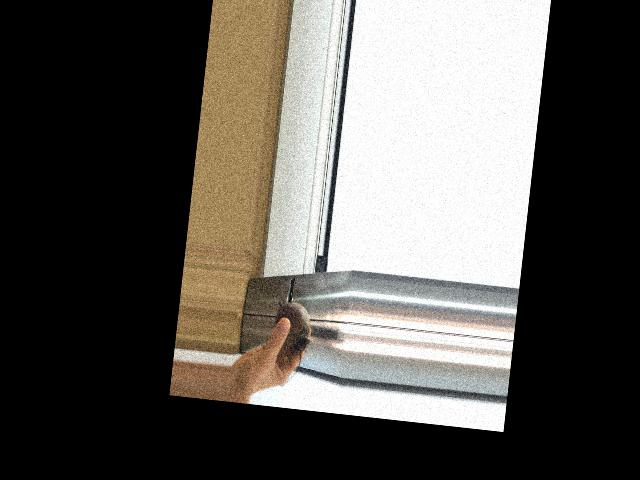beet: (267, 292, 314, 388)
